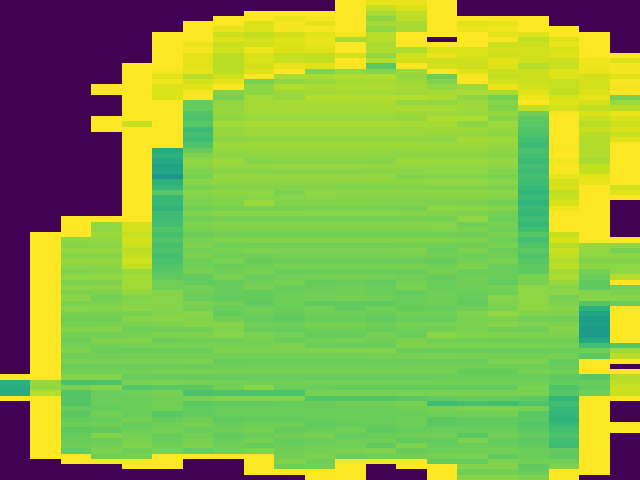car_0027: (1, 1, 640, 480)
